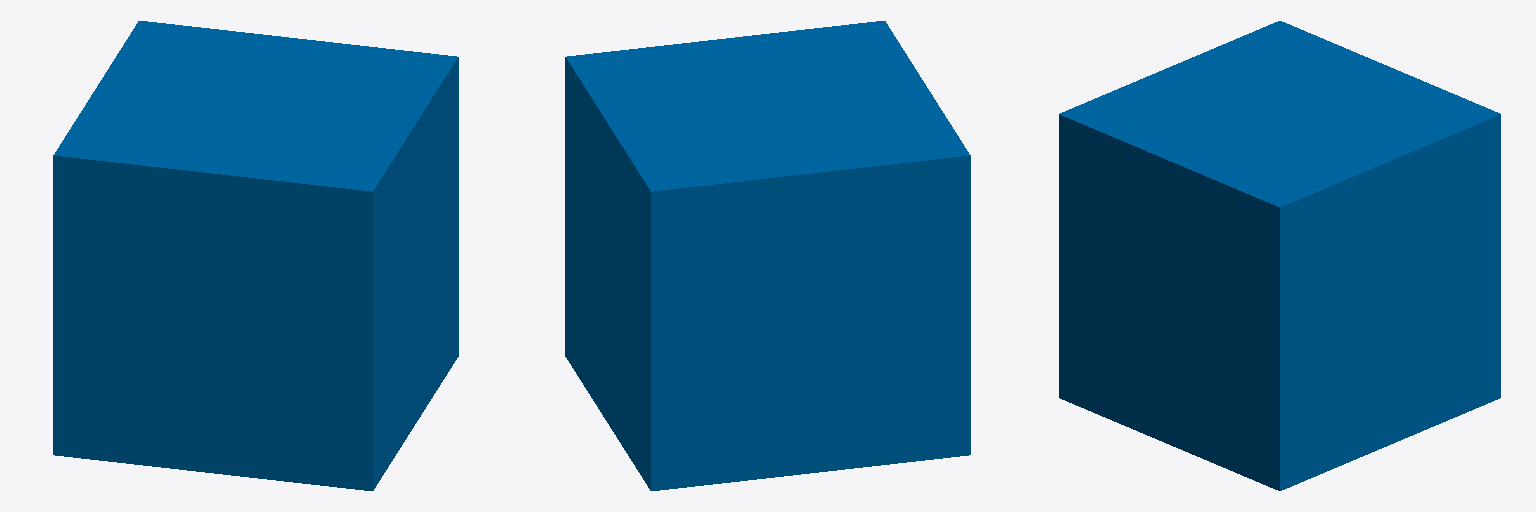
URDF robot description (panda):
<?xml version="1.0" ?>
<!-- =================================================================================== -->
<!-- |    This document was autogenerated by xacro from panda_arm_hand.urdf.xacro      | -->
<!-- |    EDITING THIS FILE BY HAND IS NOT RECOMMENDED                                 | -->
<!-- =================================================================================== -->
<robot name="panda" xmlns:xacro="http://www.ros.org/wiki/xacro">
  <link name="panda_link0">
  	<inertial>
      <origin rpy="0 0 0" xyz="0 0 0.05"/>
       <mass value="2.9"/>
       <inertia ixx="0.1" ixy="0" ixz="0" iyy="0.1" iyz="0" izz="0.1"/>
    </inertial>
    <visual>
      <geometry>
        <mesh filename="package://meshes/collision/link0.obj"/>
      </geometry>
      <material name="panda_white">
    		<color rgba="1. 1. 1. 1."/>
  		</material>
    </visual>
    <collision>
      <geometry>
        <mesh filename="package://meshes/collision/link0.obj"/>
      </geometry>
      <material name="panda_white"/>
    </collision>
  </link>
  <link name="panda_link1">
  	<inertial>
      <origin rpy="0 0 0" xyz="0 -0.04 -0.05"/>
       <mass value="2.7"/>
       <inertia ixx="0.1" ixy="0" ixz="0" iyy="0.1" iyz="0" izz="0.1"/>
    </inertial>
    <visual>
      <geometry>
        <mesh filename="package://meshes/visual/link1.obj"/>
      </geometry>
      <material name="panda_white"/>
    </visual>
    <collision>
      <geometry>
        <mesh filename="package://meshes/collision/link1.obj"/>
      </geometry>
      <material name="panda_white"/>
    </collision>
  </link>
  <joint name="panda_joint1" type="revolute">
    <safety_controller k_position="100.0" k_velocity="40.0" soft_lower_limit="-2.8973" soft_upper_limit="2.8973"/>
    <origin rpy="0 0 0" xyz="0 0 0.333"/>
    <parent link="panda_link0"/>
    <child link="panda_link1"/>
    <axis xyz="0 0 1"/>
    <limit effort="87" lower="-2.9671" upper="2.9671" velocity="2.1750"/>
  </joint>
  <link name="panda_link2">
  	<inertial>
      <origin rpy="0 0 0" xyz="0 -0.04 0.06"/>
       <mass value="2.73"/>
       <inertia ixx="0.1" ixy="0" ixz="0" iyy="0.1" iyz="0" izz="0.1"/>
    </inertial>
    <visual>
      <geometry>
        <mesh filename="package://meshes/visual/link2.obj"/>
      </geometry>
      <material name="panda_white"/>
    </visual>
    <collision>
      <geometry>
        <mesh filename="package://meshes/collision/link2.obj"/>
      </geometry>
      <material name="panda_white"/>
    </collision>
  </link>
  <joint name="panda_joint2" type="revolute">
    <safety_controller k_position="100.0" k_velocity="40.0" soft_lower_limit="-1.7628" soft_upper_limit="1.7628"/>
    <origin rpy="-1.57079632679 0 0" xyz="0 0 0"/>
    <parent link="panda_link1"/>
    <child link="panda_link2"/>
    <axis xyz="0 0 1"/>
    <limit effort="87" lower="-1.8326" upper="1.8326" velocity="2.1750"/>
  </joint>
  <link name="panda_link3">
	  <inertial>
      <origin rpy="0 0 0" xyz="0.01 0.01 -0.05"/>
       <mass value="2.04"/>
       <inertia ixx="0.1" ixy="0" ixz="0" iyy="0.1" iyz="0" izz="0.1"/>
    </inertial>
    <visual>
      <geometry>
        <mesh filename="package://meshes/visual/link3.obj"/>
      </geometry>
      <material name="panda_red">
    		<color rgba="1. 1. 1. 1."/>
  		</material>
    </visual>
    <collision>
      <geometry>
        <mesh filename="package://meshes/collision/link3.obj"/>
      </geometry>
    </collision>
  </link>
  <joint name="panda_joint3" type="revolute">
    <safety_controller k_position="100.0" k_velocity="40.0" soft_lower_limit="-2.8973" soft_upper_limit="2.8973"/>
    <origin rpy="1.57079632679 0 0" xyz="0 -0.316 0"/>
    <parent link="panda_link2"/>
    <child link="panda_link3"/>
    <axis xyz="0 0 1"/>
    <limit effort="87" lower="-2.9671" upper="2.9671" velocity="2.1750"/>
  </joint>
  <link name="panda_link4">
  	<inertial>
      <origin rpy="0 0 0" xyz="-0.03 0.03 0.02"/>
       <mass value="2.08"/>
       <inertia ixx="0.1" ixy="0" ixz="0" iyy="0.1" iyz="0" izz="0.1"/>
    </inertial>
    <visual>
      <geometry>
        <mesh filename="package://meshes/visual/link4.obj"/>
      </geometry>
      <material name="panda_white"/>
    </visual>
    <collision>
      <geometry>
        <mesh filename="package://meshes/collision/link4.obj"/>
      </geometry>
      <material name="panda_white"/>
    </collision>
  </link>
  <joint name="panda_joint4" type="revolute">
    <safety_controller k_position="100.0" k_velocity="40.0" soft_lower_limit="-3.0718" soft_upper_limit="-0.0698"/>
    <origin rpy="1.57079632679 0 0" xyz="0.0825 0 0"/>
    <parent link="panda_link3"/>
    <child link="panda_link4"/>
    <axis xyz="0 0 1"/>
    <limit effort="87" lower="-3.1416" upper="0.0" velocity="2.1750"/>
  </joint>
  <link name="panda_link5">
  	<inertial>
      <origin rpy="0 0 0" xyz="0 0.04 -0.12"/>
       <mass value="3"/>
       <inertia ixx="0.1" ixy="0" ixz="0" iyy="0.1" iyz="0" izz="0.1"/>
    </inertial>
    <visual>
      <geometry>
        <mesh filename="package://meshes/visual/link5.obj"/>
      </geometry>
      <material name="panda_white"/>
    </visual>
    <collision>
      <geometry>
        <mesh filename="package://meshes/collision/link5.obj"/>
      </geometry>
      <material name="panda_white"/>
    </collision>
  </link>
  <joint name="panda_joint5" type="revolute">
    <safety_controller k_position="100.0" k_velocity="40.0" soft_lower_limit="-2.8973" soft_upper_limit="2.8973"/>
    <origin rpy="-1.57079632679 0 0" xyz="-0.0825 0.384 0"/>
    <parent link="panda_link4"/>
    <child link="panda_link5"/>
    <axis xyz="0 0 1"/>
    <limit effort="12" lower="-2.9671" upper="2.9671" velocity="2.6100"/>
  </joint>
  <link name="panda_link6">
  	<inertial>
      <origin rpy="0 0 0" xyz="0.04 0 0"/>
       <mass value="1.3"/>
       <inertia ixx="0.1" ixy="0" ixz="0" iyy="0.1" iyz="0" izz="0.1"/>
    </inertial>
    <visual>
      <geometry>
        <mesh filename="package://meshes/visual/link6.obj"/>
      </geometry>
      <material name="panda_white"/>
    </visual>
    <collision>
      <geometry>
        <mesh filename="package://meshes/collision/link6.obj"/>
      </geometry>
      <material name="panda_white"/>
    </collision>
  </link>
  <joint name="panda_joint6" type="revolute">
    <safety_controller k_position="100.0" k_velocity="40.0" soft_lower_limit="-0.0175" soft_upper_limit="3.7525"/>
    <origin rpy="1.57079632679 0 0" xyz="0 0 0"/>
    <parent link="panda_link5"/>
    <child link="panda_link6"/>
    <axis xyz="0 0 1"/>
    <limit effort="12" lower="-0.0873" upper="3.8223" velocity="2.6100"/>
  </joint>
  <link name="panda_link7">
  	<inertial>
      <origin rpy="0 0 0" xyz="0 0 0.08"/>
       <mass value=".2"/>
       <inertia ixx="0.1" ixy="0" ixz="0" iyy="0.1" iyz="0" izz="0.1"/>
    </inertial>
    <visual>
      <geometry>
        <mesh filename="package://meshes/collision/link7.obj"/>
      </geometry>
      <material name="panda_white"/>
    </visual>
    <collision>
      <geometry>
        <mesh filename="package://meshes/collision/link7.obj"/>
      </geometry>
      <material name="panda_white"/>
    </collision>
  </link>
  <joint name="panda_joint7" type="revolute">
    <safety_controller k_position="100.0" k_velocity="40.0" soft_lower_limit="-2.8973" soft_upper_limit="2.8973"/>
    <origin rpy="1.57079632679 0 0" xyz="0.088 0 0"/>
    <parent link="panda_link6"/>
    <child link="panda_link7"/>
    <axis xyz="0 0 1"/>
    <limit effort="12" lower="-2.9671" upper="2.9671" velocity="2.6100"/>
  </joint>
  <link name="panda_link8">
  	 <inertial>
      <origin rpy="0 0 0" xyz="0 0 0"/>
       <mass value="0.0"/>
       <inertia ixx="0.1" ixy="0" ixz="0" iyy="0.1" iyz="0" izz="0.1"/>
    </inertial>
  </link>
  <joint name="panda_joint8" type="fixed">
    <origin rpy="0 0 0" xyz="0 0 0.107"/>
    <parent link="panda_link7"/>
    <child link="panda_link8"/>
    <axis xyz="0 0 0"/>
  </joint>
  <joint name="panda_hand_joint" type="fixed">
    <parent link="panda_link8"/>
    <child link="panda_hand"/>
    <origin rpy="0 0 -0.785398163397" xyz="0 0 0"/>
  </joint>
  <link name="panda_hand">
  	<inertial>
      <origin rpy="0 0 0" xyz="0 0 0.04"/>
       <mass value=".81"/>
       <inertia ixx="0.1" ixy="0" ixz="0" iyy="0.1" iyz="0" izz="0.1"/>
    </inertial>
    <visual>
      <geometry>
        <mesh filename="package://meshes/visual/hand.obj"/>
      </geometry>
      <material name="panda_white"/>
    </visual>
    <collision>
      <geometry>
        <mesh filename="package://meshes/collision/hand.obj"/>
      </geometry>
      <material name="panda_white"/>
    </collision>
  </link>
  <link name="panda_leftfinger">
       <contact>
      <friction_anchor/>
      <stiffness value="30000.0"/>
      <damping value="1000.0"/>
      <spinning_friction value="0.1"/>
      <lateral_friction value="1.0"/>
    </contact>
  	<inertial>
      <origin rpy="0 0 0" xyz="0 0.01 0.02"/>
       <mass value="0.1"/>
       <inertia ixx="0.1" ixy="0" ixz="0" iyy="0.1" iyz="0" izz="0.1"/>
    </inertial>
    <visual>
      <geometry>
        <mesh filename="package://meshes/visual/finger.obj"/>
      </geometry>
      <material name="panda_white"/>
    </visual>
    <collision>
      <geometry>
        <mesh filename="package://meshes/collision/finger.obj"/>
      </geometry>
      <material name="panda_white"/>
    </collision>
  </link>
  <link name="panda_rightfinger">
        <contact>
      <friction_anchor/>
      <stiffness value="30000.0"/>
      <damping value="1000.0"/>
      <spinning_friction value="0.1"/>
      <lateral_friction value="1.0"/>
    </contact>

  	<inertial>
      <origin rpy="0 0 0" xyz="0 -0.01 0.02"/>
       <mass value="0.1"/>
       <inertia ixx="0.1" ixy="0" ixz="0" iyy="0.1" iyz="0" izz="0.1"/>
    </inertial>
    <visual>
      <origin rpy="0 0 3.14159265359" xyz="0 0 0"/>
      <geometry>
        <mesh filename="package://meshes/visual/finger.obj"/>
      </geometry>
      <material name="panda_white"/>
    </visual>
    <collision>
      <origin rpy="0 0 3.14159265359" xyz="0 0 0"/>
      <geometry>
        <mesh filename="package://meshes/collision/finger.obj"/>
      </geometry>
      <material name="panda_white"/>
    </collision>
  </link>
  <joint name="panda_finger_joint1" type="prismatic">
    <parent link="panda_hand"/>
    <child link="panda_leftfinger"/>
    <origin rpy="0 0 0" xyz="0 0 0.0584"/>
    <axis xyz="0 1 0"/>
    <limit effort="20" lower="0.0" upper="0.04" velocity="0.2"/>
  </joint>
  <joint name="panda_finger_joint2" type="prismatic">
    <parent link="panda_hand"/>
    <child link="panda_rightfinger"/>
    <origin rpy="0 0 0" xyz="0 0 0.0584"/>
    <axis xyz="0 -1 0"/>
    <limit effort="20" lower="0.0" upper="0.04" velocity="0.2"/>
    <mimic joint="panda_finger_joint1"/>
  </joint>
   <link name="panda_grasptarget">
     <visual>
    <material name="blackish"/>
    <geometry>
      <box size=".005 .005 .005"/>
    </geometry>
  </visual>
    <inertial>
      <origin rpy="0 0 0" xyz="0 0 0"/>
       <mass value="0.0"/>
       <inertia ixx="0.1" ixy="0" ixz="0" iyy="0.1" iyz="0" izz="0.1"/>
    </inertial>
   </link>
   <joint name="panda_grasptarget_hand" type="fixed">
    <parent link="panda_hand"/>
    <child link="panda_grasptarget"/>
    <origin rpy="0 0 0" xyz="0 0 0.105"/>
  </joint>

  <!-- fix for broken jacobian calculations -->
<link name="world"/>
 <joint name="world_joint" type="fixed">
   <parent link="world"/>
   <child link="panda_link0"/>
   <origin rpy="0.0 0.0 0.0" xyz="0.0 0.0 0.0"/>
 </joint>
  
</robot>

--- What the picture shows (computed from the rendered views, not written in the file) ---
Views: 3 orthographic renders of the robot side by side, from view 1: azimuth 30°, elevation 25°; view 2: azimuth 150°, elevation 25°; view 3: azimuth 270°, elevation 25°.
Robot: panda — 14 links, 13 joints (7 revolute, 2 prismatic, 4 fixed); root link world; default pose: every joint at zero.
Links seen in each view (by area): view 1: panda_grasptarget; view 2: panda_grasptarget; view 3: panda_grasptarget.
Boxes of the visible links, <box> form: panda_grasptarget: <box>53,21,458,490</box>; panda_grasptarget: <box>565,21,970,490</box>; panda_grasptarget: <box>1059,21,1500,490</box>.
Bounding box of the posed robot: 0.0071 × 0.0071 × 0.005 m (x, y, z).
0 mesh visuals loaded from 10 distinct referenced files (none loaded); not drawn: 11 (reference not matched to a file when rendering).